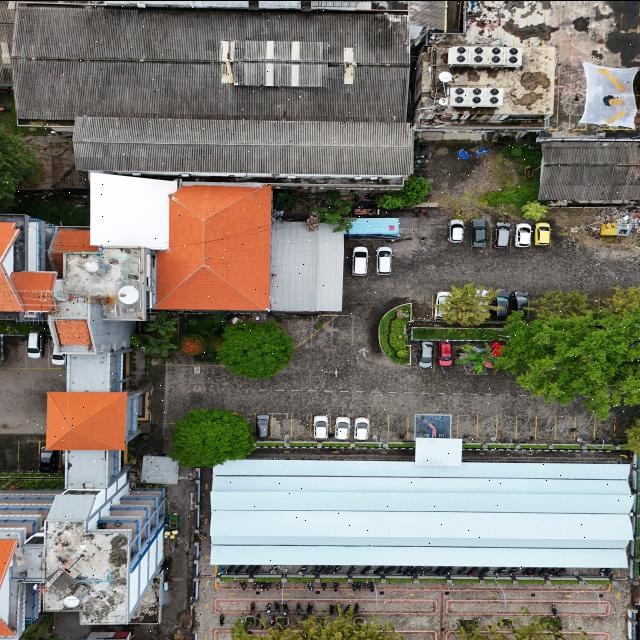Tree: (170, 406, 258, 468), (212, 316, 292, 380), (522, 286, 594, 322), (438, 282, 492, 326), (141, 328, 183, 361), (519, 199, 550, 219), (378, 192, 409, 208)
